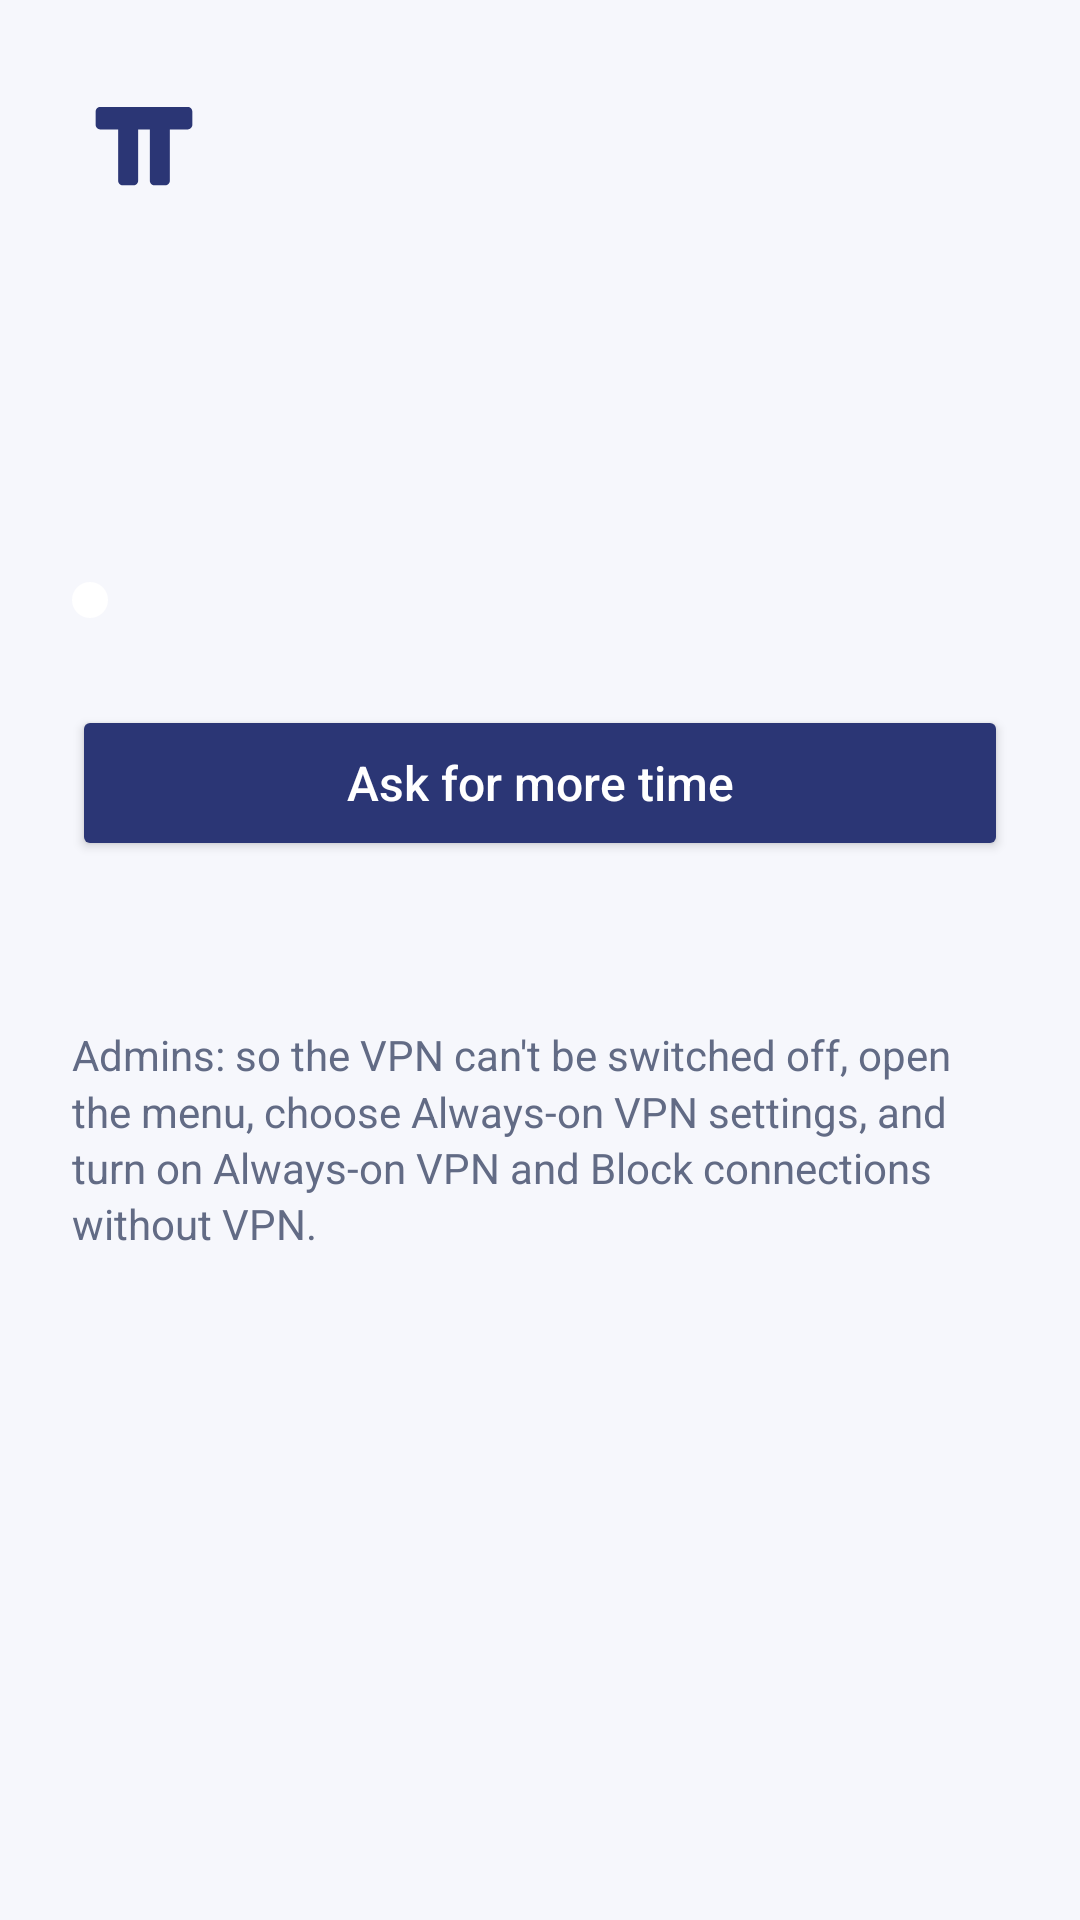

Icons on this 1080 x 1920 Android screen, each with its box as (x1, y1, x2, y2):
brand mark: (95, 107, 193, 186)
